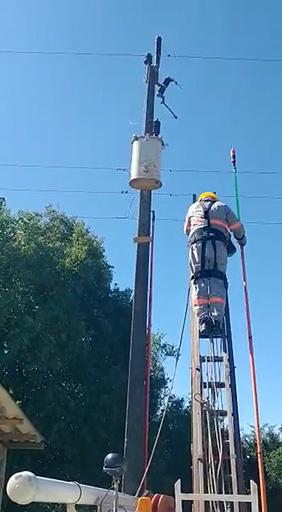Detector_Tensao_Contato: (228, 144, 238, 168)
Vara_Manobra: (232, 168, 267, 512)
